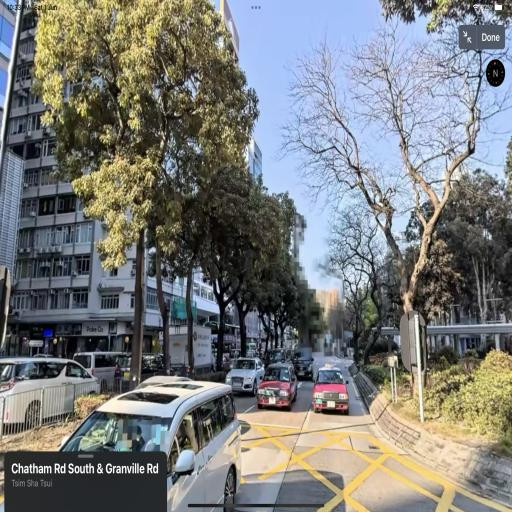Roads: (95, 354, 509, 492)
Trees: (46, 0, 188, 363), (178, 106, 264, 358), (247, 184, 324, 344)
